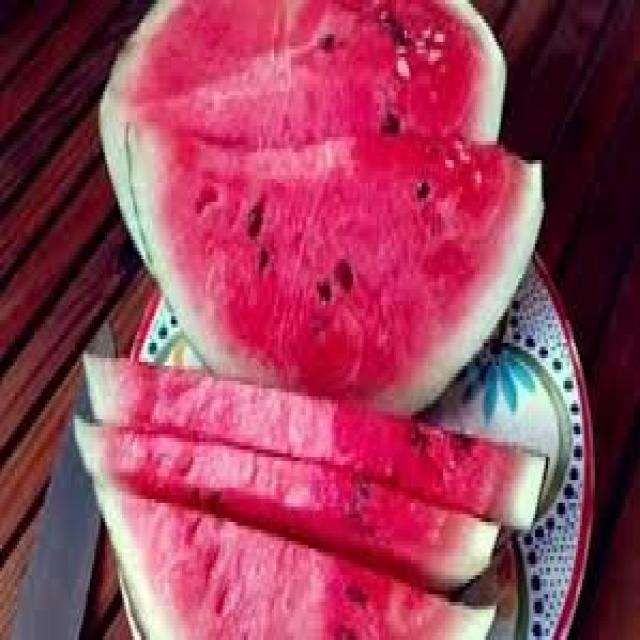watermelon: (96, 0, 546, 415), (71, 347, 548, 636)
